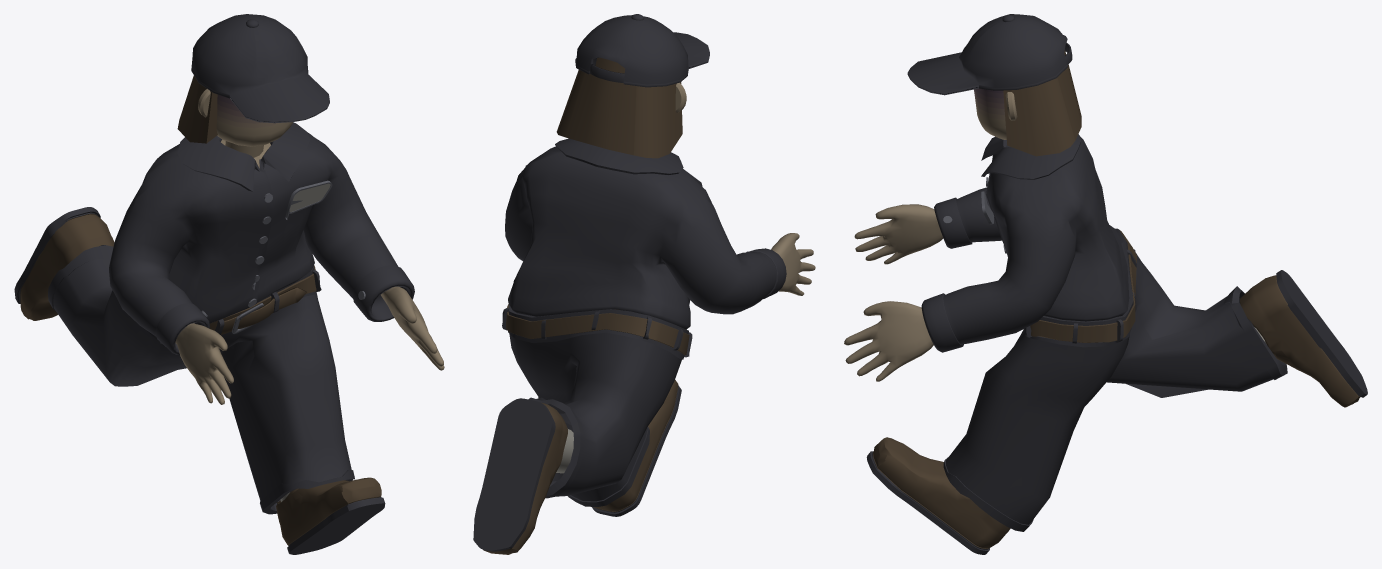
File: TempGuard_Chase.fbx
3 views of the same model, side by side, from view 1: azimuth 30°, elevation 25°; view 2: azimuth 150°, elevation 25°; view 3: azimuth 270°, elevation 25° (orthographic). The views are drawn at different scales.
Parts seen in each view (by area): view 1: chase; view 2: chase; view 3: chase.
Boxes of the visible parts, x1,y1,x2,y2 form: chase: (14, 14, 444, 554); chase: (473, 14, 815, 554); chase: (844, 14, 1367, 554).
Size of the model in its own units: 74.83 by 151 by 139.
